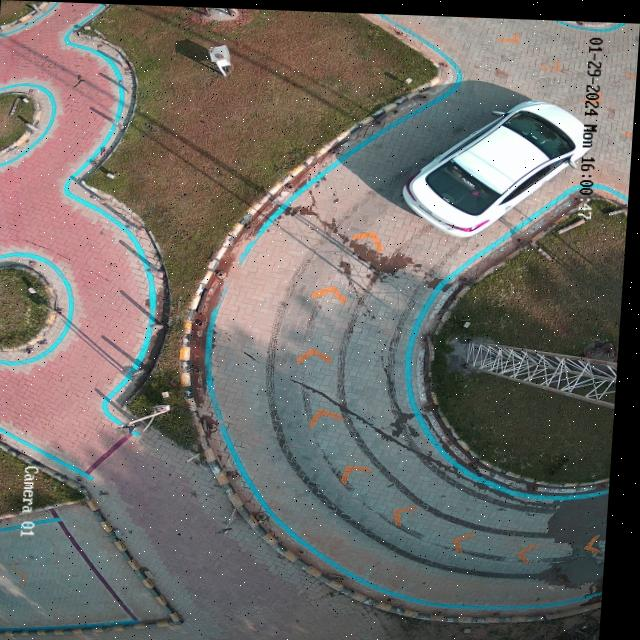car: (402, 96, 584, 233)
